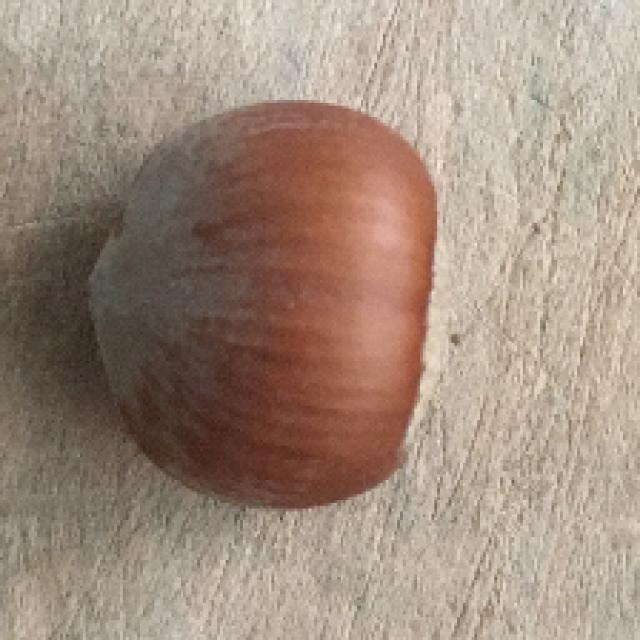qualityHazelnut: (77, 88, 461, 508)
